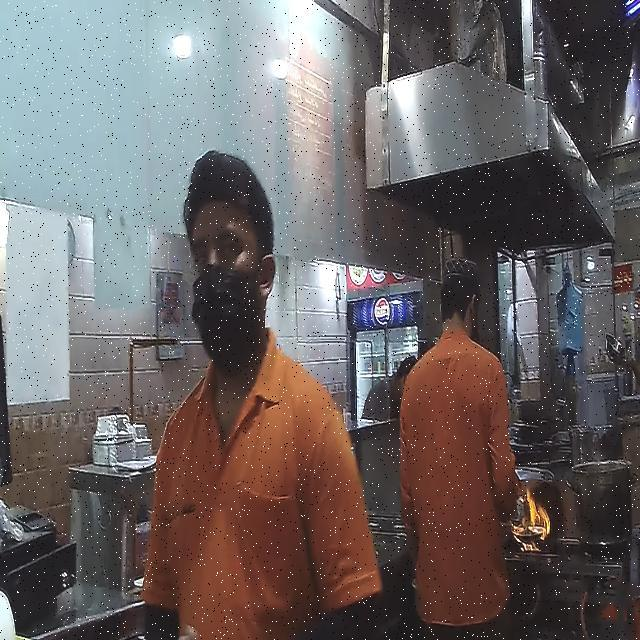face_mask: (187, 202, 277, 356)
